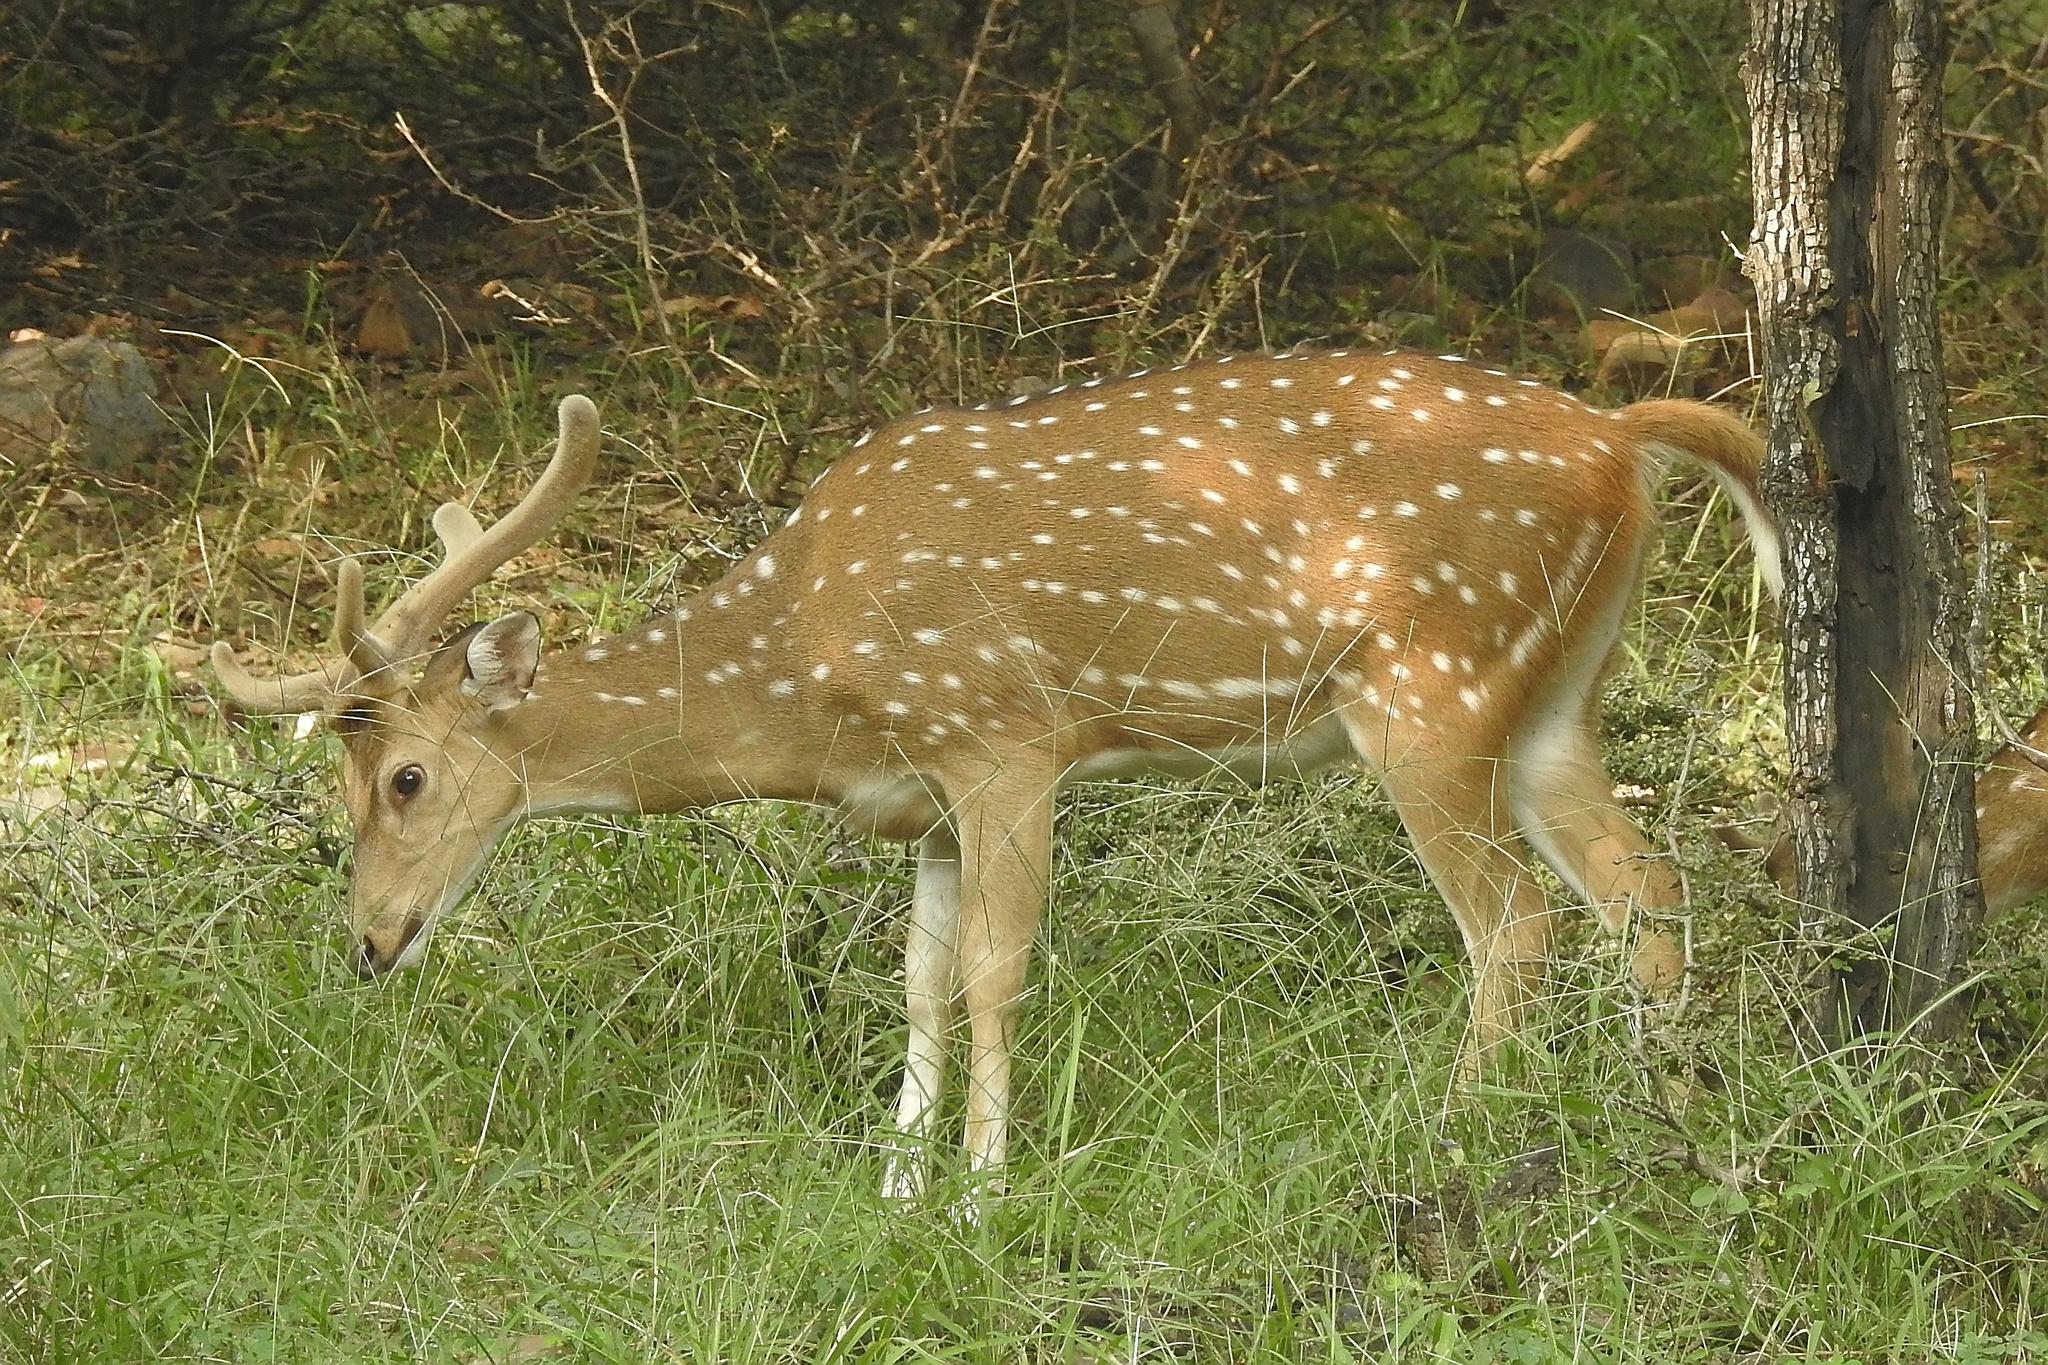Deer: (212, 352, 1782, 1194)
